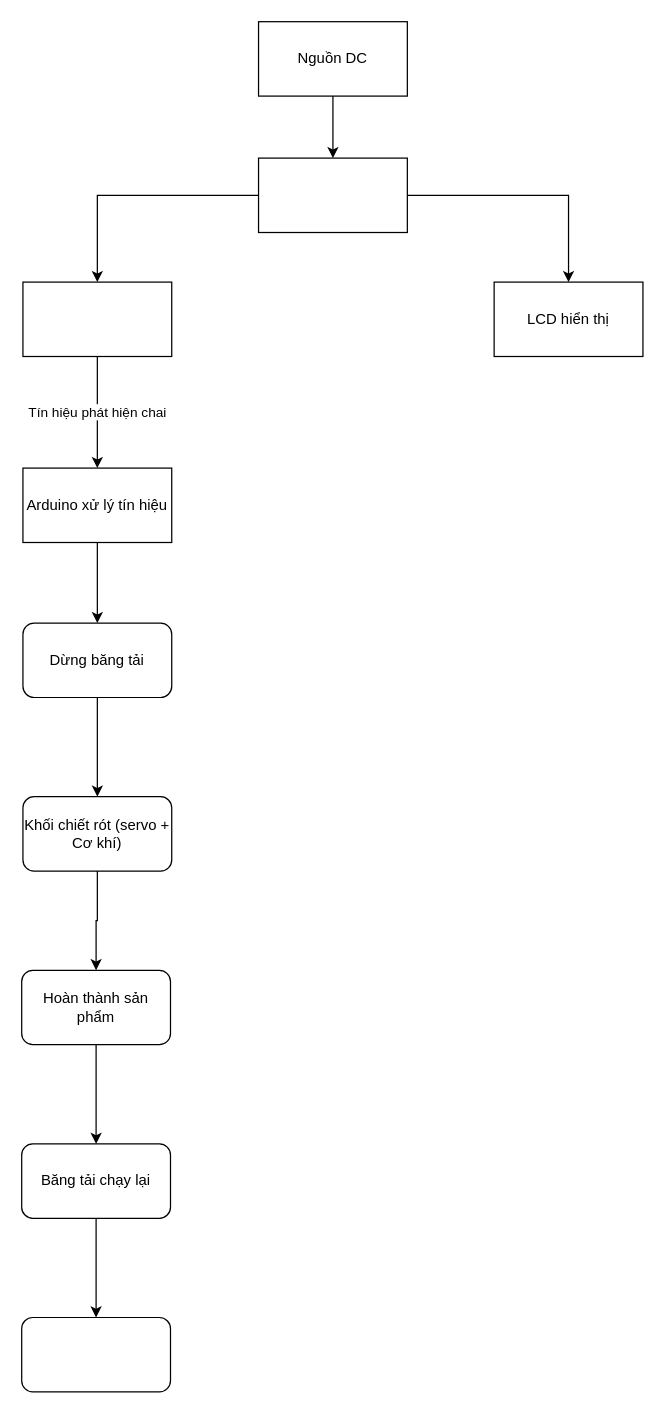
This 665x1414 diagram has some shape labels left out. The centre of each missing label's shape, as x and y in pixels:
"Arduino Nano" belongs at (332,194).
"Cảm biến HW201" belongs at (97,318).
"Thực hiện quy trình mới" belongs at (95,1354).
